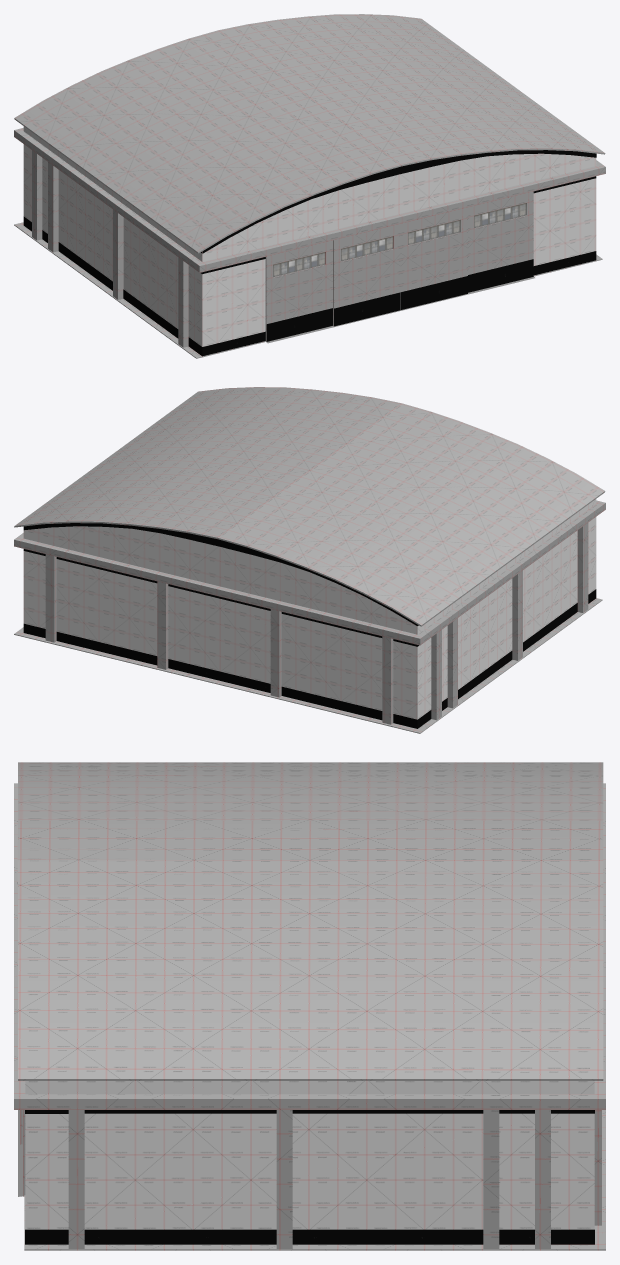
The model's file is hangar_01_a.FBX.
The picture shows the model from 3 angles, top to bottom: view 1: azimuth 30°, elevation 25°; view 2: azimuth 150°, elevation 25°; view 3: azimuth 270°, elevation 25°; orthographic projection. The views are drawn at different scales.
Parts seen in each view (by area): view 1: Object004, dl1, dl2, dr1, dr2; view 2: Object004; view 3: Object004.
Boxes of the visible parts, left/top/right/bottom form: Object004: left=14, top=14, right=605, bottom=358; dl1: left=333, top=224, right=400, bottom=326; dl2: left=265, top=240, right=332, bottom=341; dr1: left=401, top=207, right=467, bottom=309; dr2: left=468, top=191, right=533, bottom=292; Object004: left=14, top=387, right=605, bottom=733; Object004: left=14, top=762, right=605, bottom=1250.
Size of the model in its own units: 145 by 49.57 by 114.
